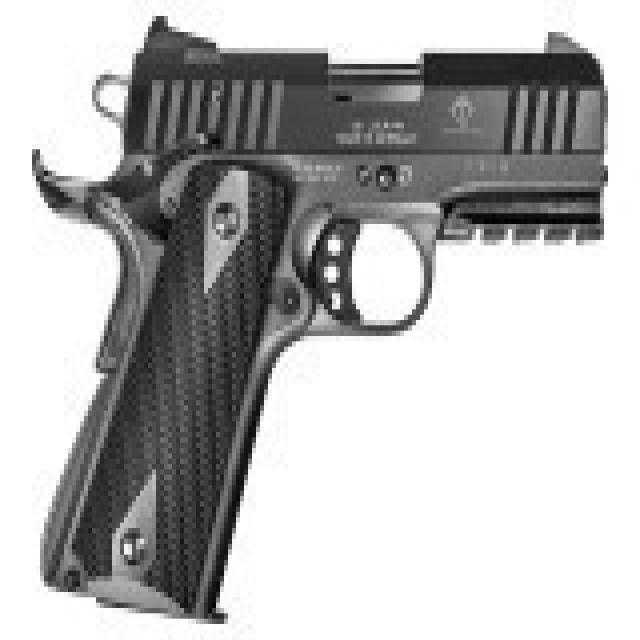Gun: (29, 10, 626, 640)
